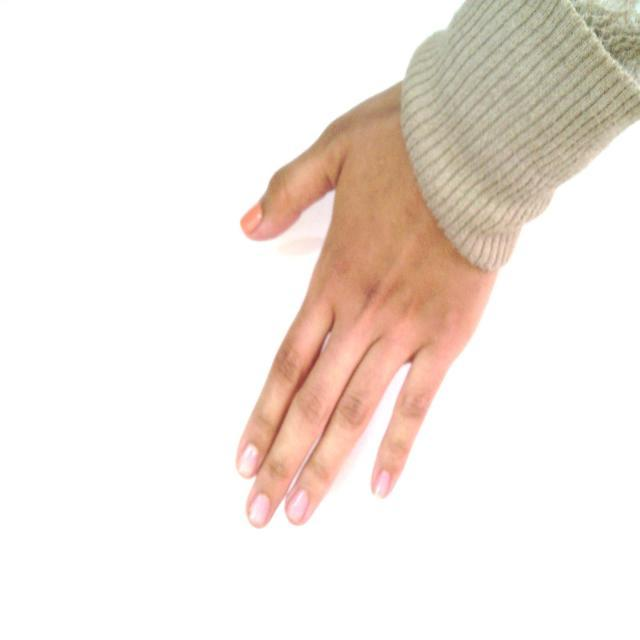Fingernail: (286, 488, 309, 523), (239, 205, 263, 236), (239, 444, 259, 477), (250, 494, 270, 526), (374, 470, 391, 498)
